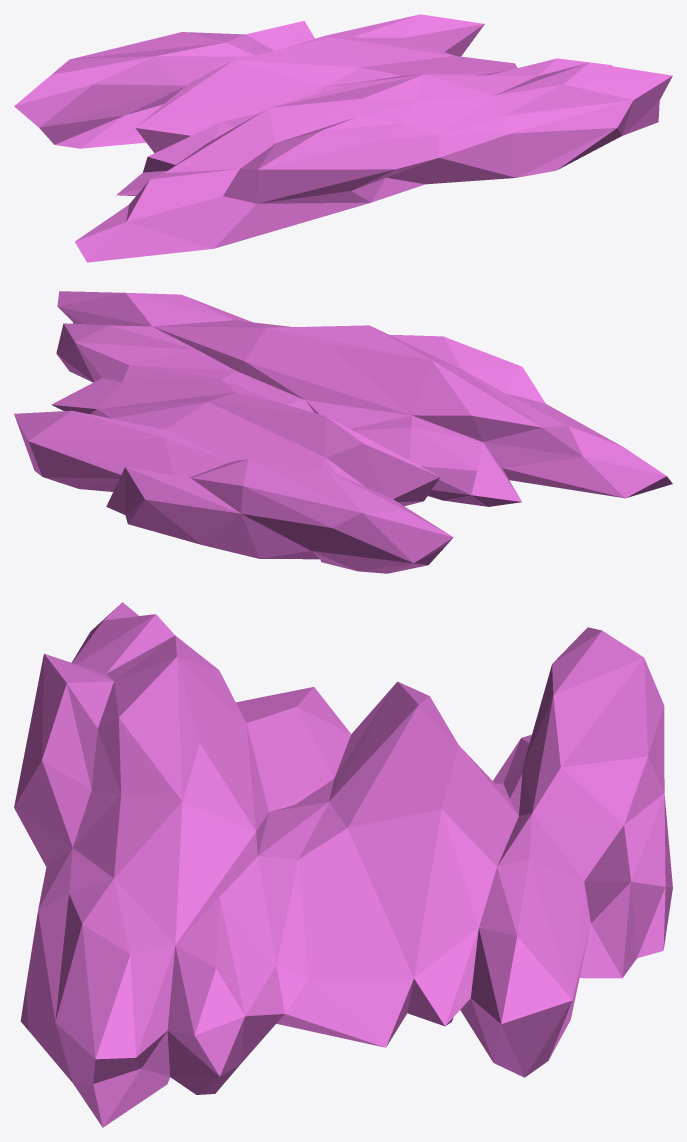
File: cloud 1.fbx
3 views of the same model, one above another, from view 1: azimuth 30°, elevation 25°; view 2: azimuth 150°, elevation 25°; view 3: azimuth 270°, elevation 25° (orthographic). The views are drawn at different scales.
Parts seen in each view (by area): view 1: Sphere.004; view 2: Sphere.004; view 3: Sphere.004.
Boxes of the visible parts, x1=… form: Sphere.004: x1=14, y1=14, x2=672, y2=262; Sphere.004: x1=14, y1=291, x2=672, y2=573; Sphere.004: x1=14, y1=602, x2=672, y2=1127.
Bounding box in the file's own units: 24287 × 4122 × 13378.
